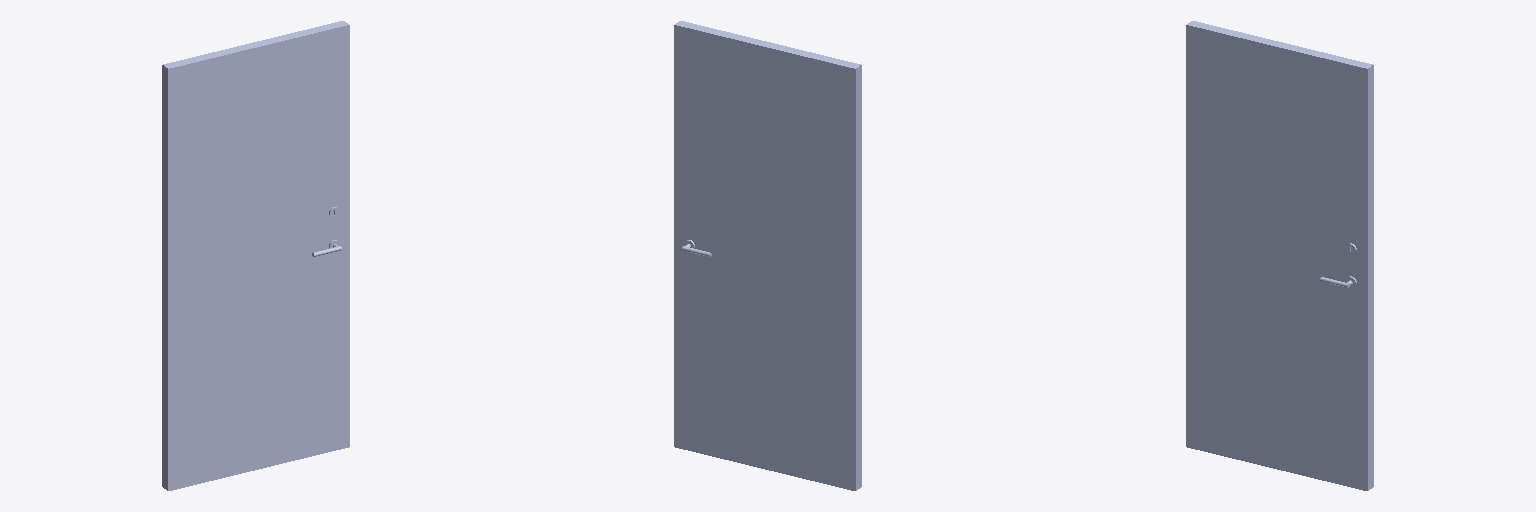
URDF robot description (Door_in):
<?xml version="1.0" encoding="utf-8"?>
<!-- This URDF was automatically created by SolidWorks to URDF Exporter! Originally created by [author] ([email redacted]) 
     Commit Version: 1.5.1-0-g916b5db  Build Version: 1.5.7152.31018
     For more information, please see http://wiki.ros.org/sw_urdf_exporter -->
<robot
  name="Door_in">
  <link
    name="Door_in">
    <inertial>
      <origin
        xyz="0.00057033 -0.0260059999999999 1.025"
        rpy="0 0 0" />
      <mass
        value="33.399" />
      <inertia
        ixx="11.685"
        ixy="7.223E-05"
        ixz="0.00010293"
        iyy="14.036"
        iyz="-2.56780000007145E-05"
        izz="2.3663" />
    </inertial>
    <visual>
      <origin
        xyz="0 0 0"
        rpy="1.5707963267949 0 0" />
      <geometry>
        <mesh
          filename="package://Door_in/meshes/Door_in.STL" />
      </geometry>
      <material
        name="">
        <color
          rgba="0.79216 0.81961 0.93333 1" />
        <texture
          filename="package://Door_in/textures/" />
      </material>
    </visual>
    <collision>
      <origin
        xyz="0 0 0"
        rpy="1.5707963267949 0 0" />
      <geometry>
        <mesh
          filename="package://Door_in/meshes/Door_in.STL" />
      </geometry>
    </collision>
  </link>
</robot>

--- What the picture shows (computed from the rendered views, not written in the file) ---
3 views of the same robot in one strip: view 1: azimuth 30°, elevation 25°; view 2: azimuth 150°, elevation 25°; view 3: azimuth 330°, elevation 25° (orthographic).
Model Door_in with 1 links and 0 joints (none), rooted at Door_in, posed every joint at zero.
Visible links, largest first — view 1: Door_in; view 2: Door_in; view 3: Door_in.
Link boxes in pixels (bbox=[...]): Door_in: bbox=[162, 21, 349, 490]; Door_in: bbox=[674, 21, 861, 490]; Door_in: bbox=[1186, 21, 1373, 490].
Size in the robot's own frame: 0.92 by 0.16 by 2.05 metres.
1 mesh visuals loaded from 1 distinct referenced files (1 binary STL).